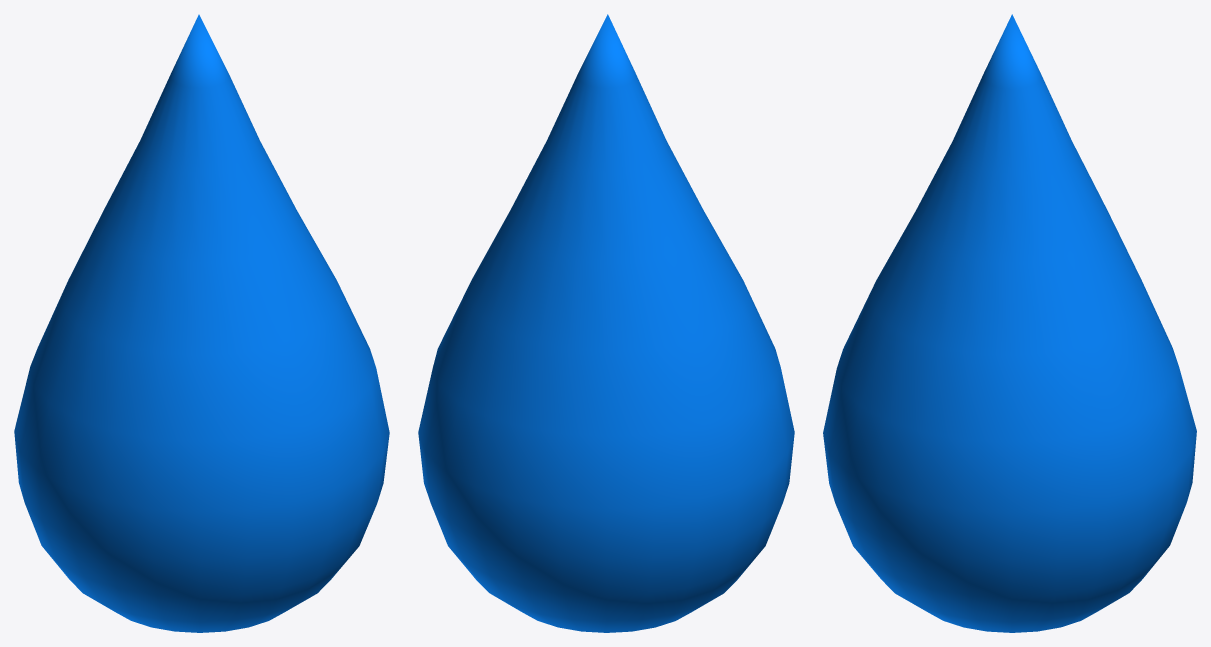
3 views of the same model, side by side, from view 1: azimuth 30°, elevation 25°; view 2: azimuth 150°, elevation 25°; view 3: azimuth 270°, elevation 25° (orthographic).
Visible parts, largest first — view 1: water; view 2: water; view 3: water.
Part boxes in pixels (x1,y1,x2,y2): water: (14, 14, 389, 632); water: (418, 14, 794, 632); water: (823, 14, 1196, 632).
Bounding box in the file's own units: 1.98 × 3.49 × 1.97.
Materials: 1 (1 with a texture image).
